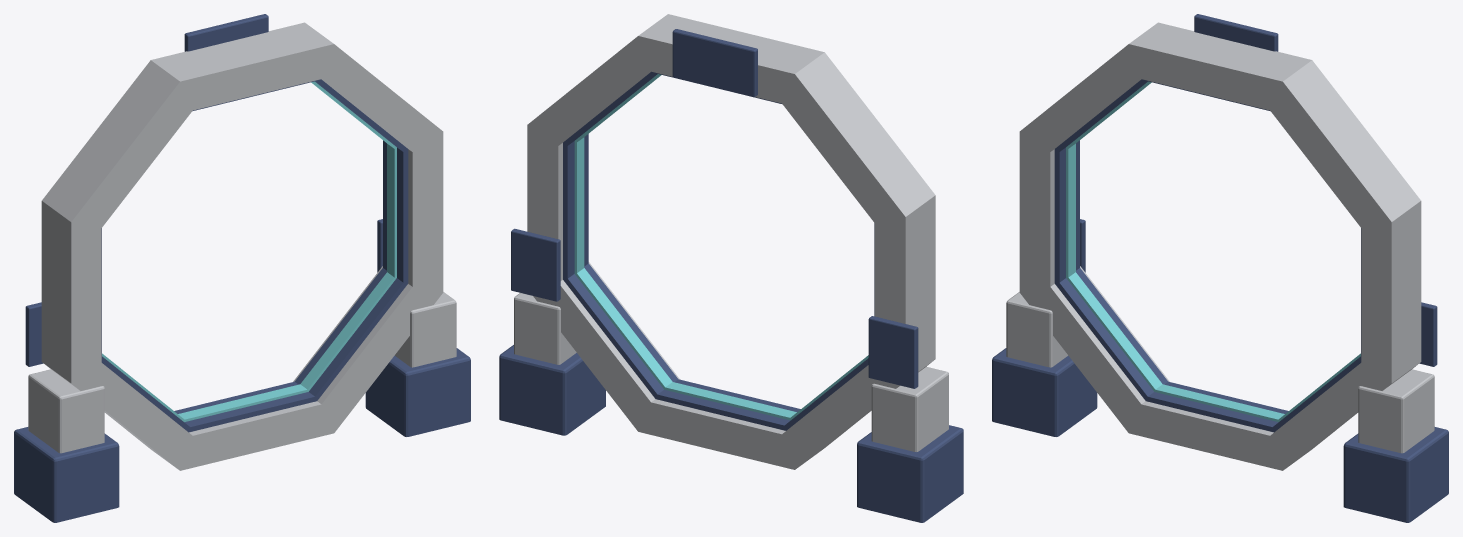
The model's file is rn2-orbital-portal.glb.
3 renders of one model, left to right at view 1: azimuth 30°, elevation 25°; view 2: azimuth 150°, elevation 25°; view 3: azimuth 330°, elevation 25°, orthographic.
Visible parts, largest first — view 1: rn2_orbital_portal_body, rn2_orbital_portal_glow; view 2: rn2_orbital_portal_body, rn2_orbital_portal_glow; view 3: rn2_orbital_portal_body, rn2_orbital_portal_glow.
Part boxes in pixels (x1,y1,x2,y2): rn2_orbital_portal_body: [14, 14, 470, 522]; rn2_orbital_portal_glow: [102, 81, 396, 422]; rn2_orbital_portal_body: [499, 14, 963, 522]; rn2_orbital_portal_glow: [574, 74, 868, 420]; rn2_orbital_portal_body: [992, 14, 1448, 522]; rn2_orbital_portal_glow: [1066, 81, 1360, 422].
Bounding box in the file's own units: 16.4 × 15.8 × 2.8.
